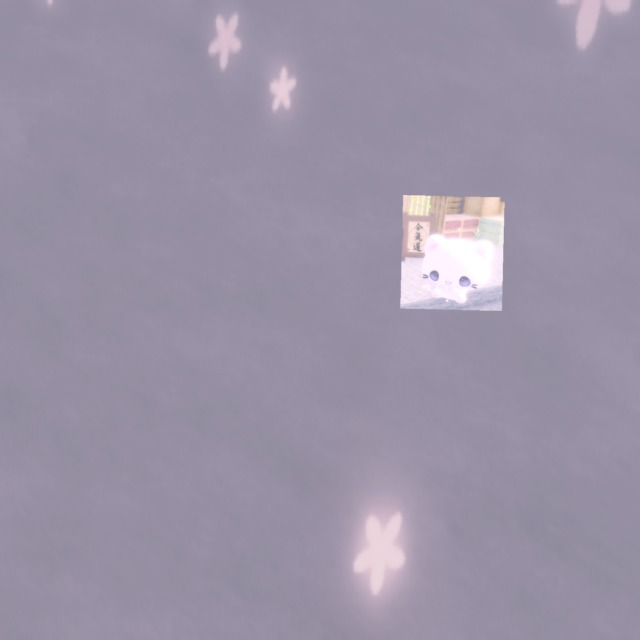urso_branco: (400, 195, 505, 311)
